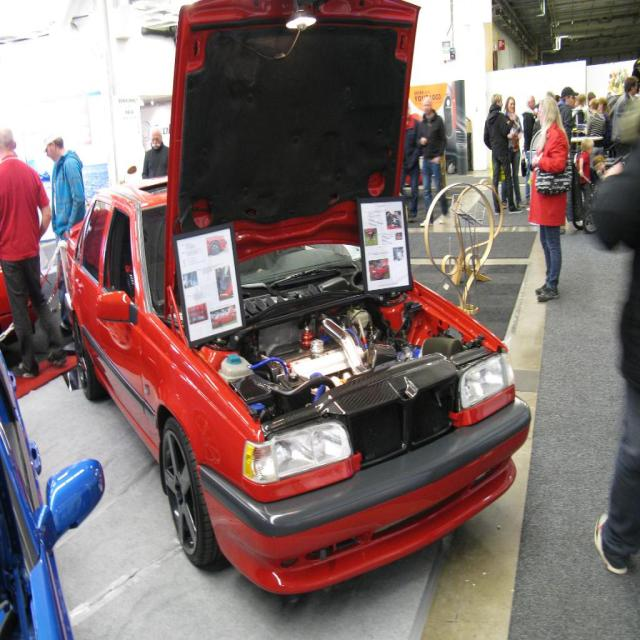car: (57, 0, 536, 636)
